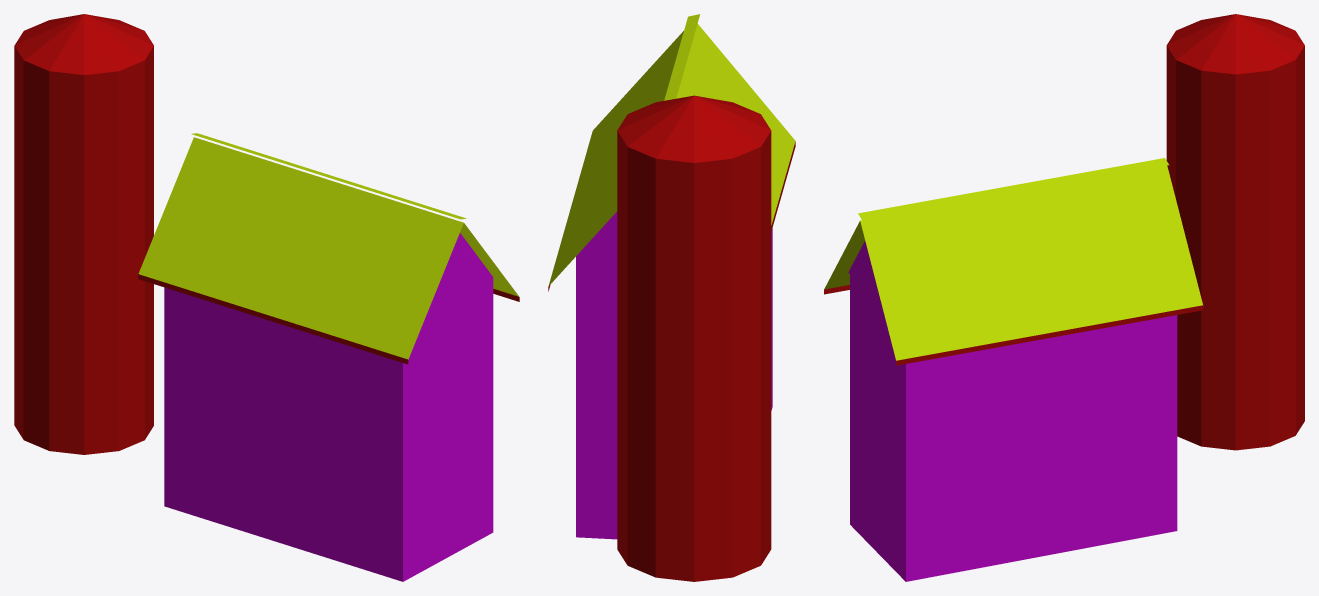
The model's file is ssm_19.glb.
3 views of the same model, side by side, from view 1: azimuth 30°, elevation 25°; view 2: azimuth 150°, elevation 25°; view 3: azimuth 270°, elevation 25° (orthographic). The views are drawn at different scales.
Visible parts, largest first — view 1: ssm_19; view 2: ssm_19; view 3: ssm_19.
Boxes of the visible parts, box(x1,y1,x2,y2) form: ssm_19: box(14, 14, 519, 581); ssm_19: box(548, 14, 795, 581); ssm_19: box(824, 14, 1304, 581).
Size of the model in its own units: 8.04 by 10.79 by 10.43.
